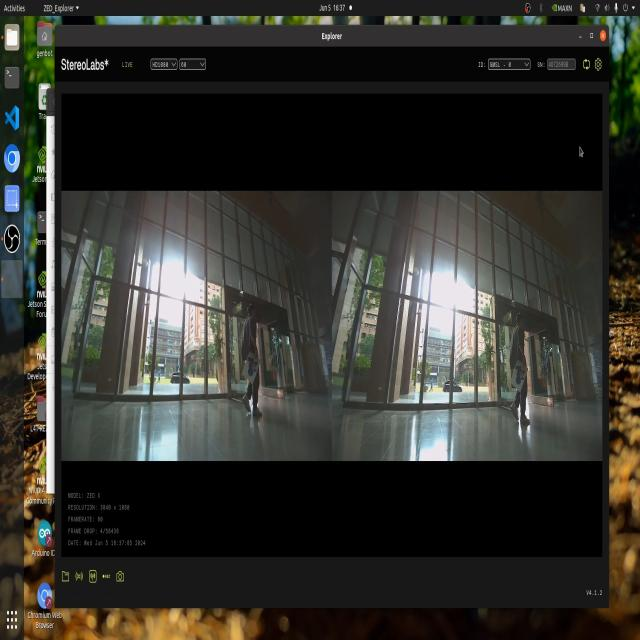blue: (509, 364, 528, 394), (243, 350, 256, 376)
